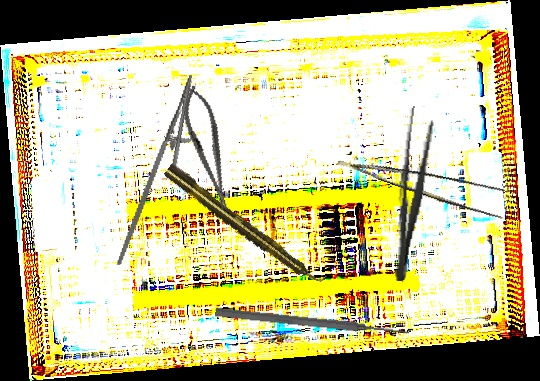Dressing Forceps: (386, 104, 436, 284)
Handpiece: (162, 161, 326, 292)
Needle Holder: (116, 68, 208, 276), (176, 81, 239, 215)
Pusher: (214, 305, 411, 340)
Tissue Forceps: (337, 133, 514, 225)
